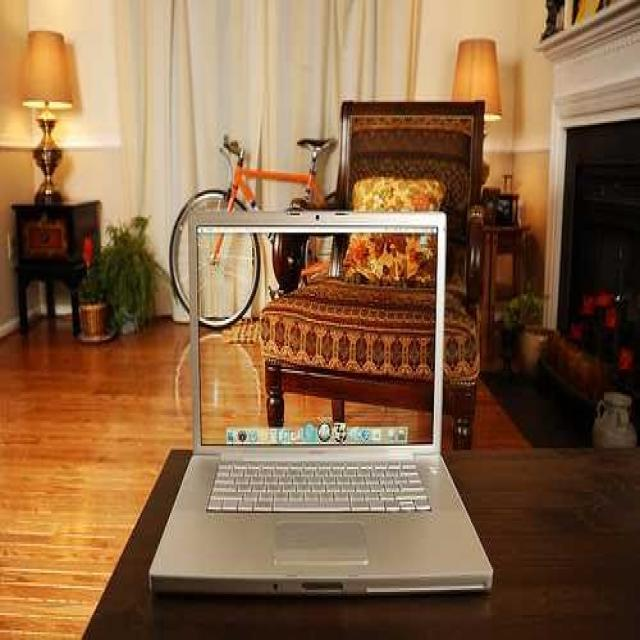laptop: (164, 225, 501, 621)
